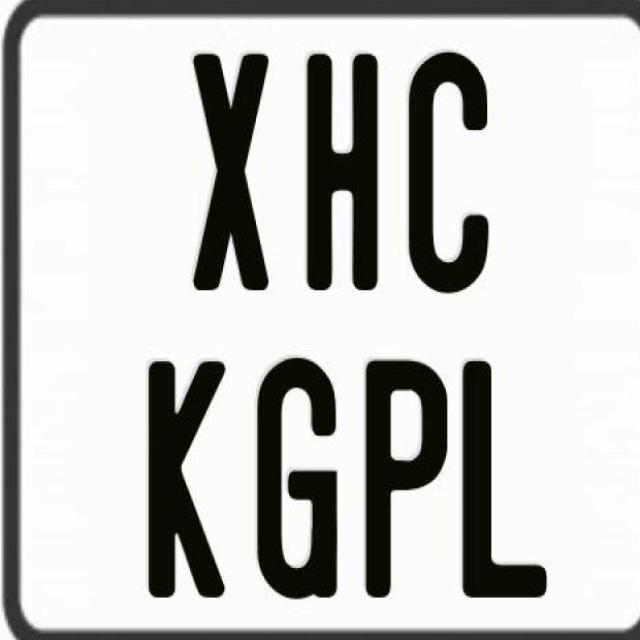license-plate: (34, 14, 640, 640)
